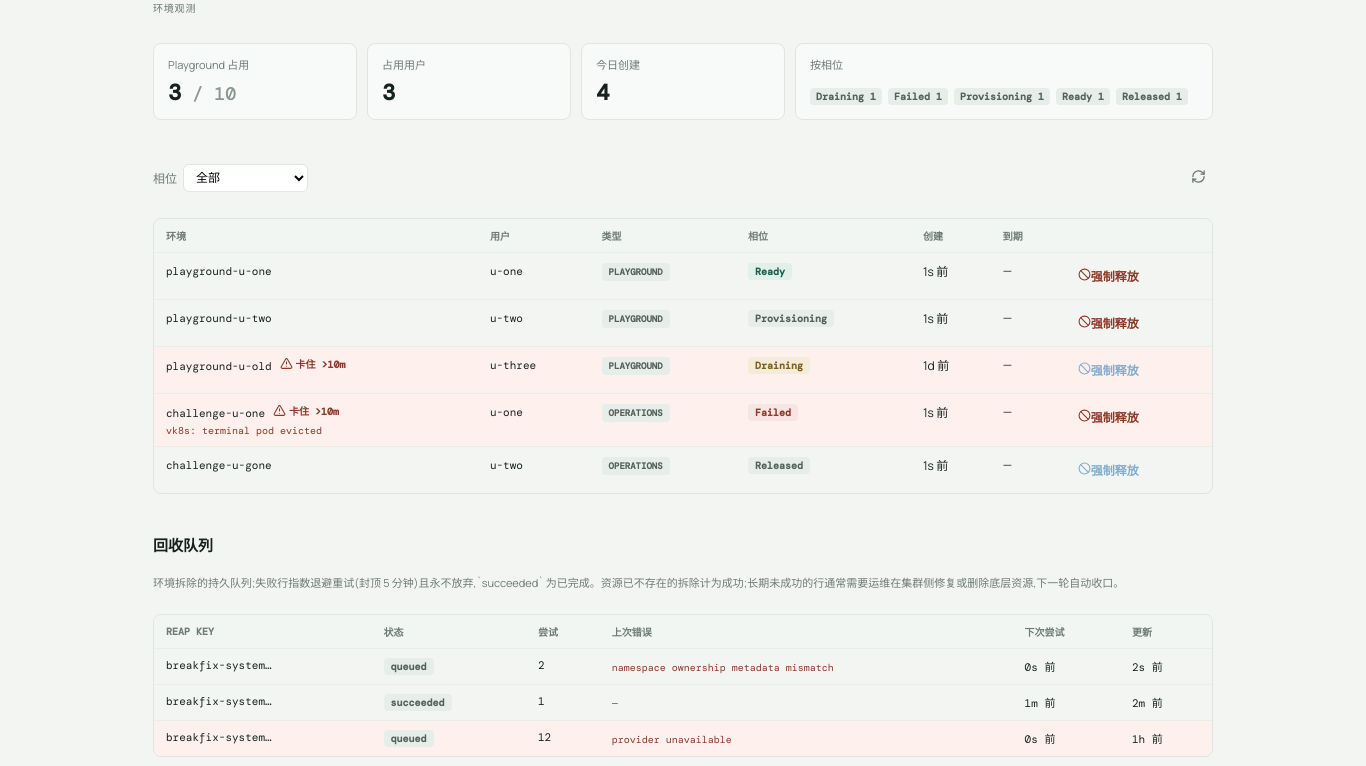
Test: AdminEnvironmentsPage › keeps the error visible when the release is rejected
Click the button with class "admin-release-button" in the row of "playground-u-one" at (1108, 276), box [1073,262,1144,290]
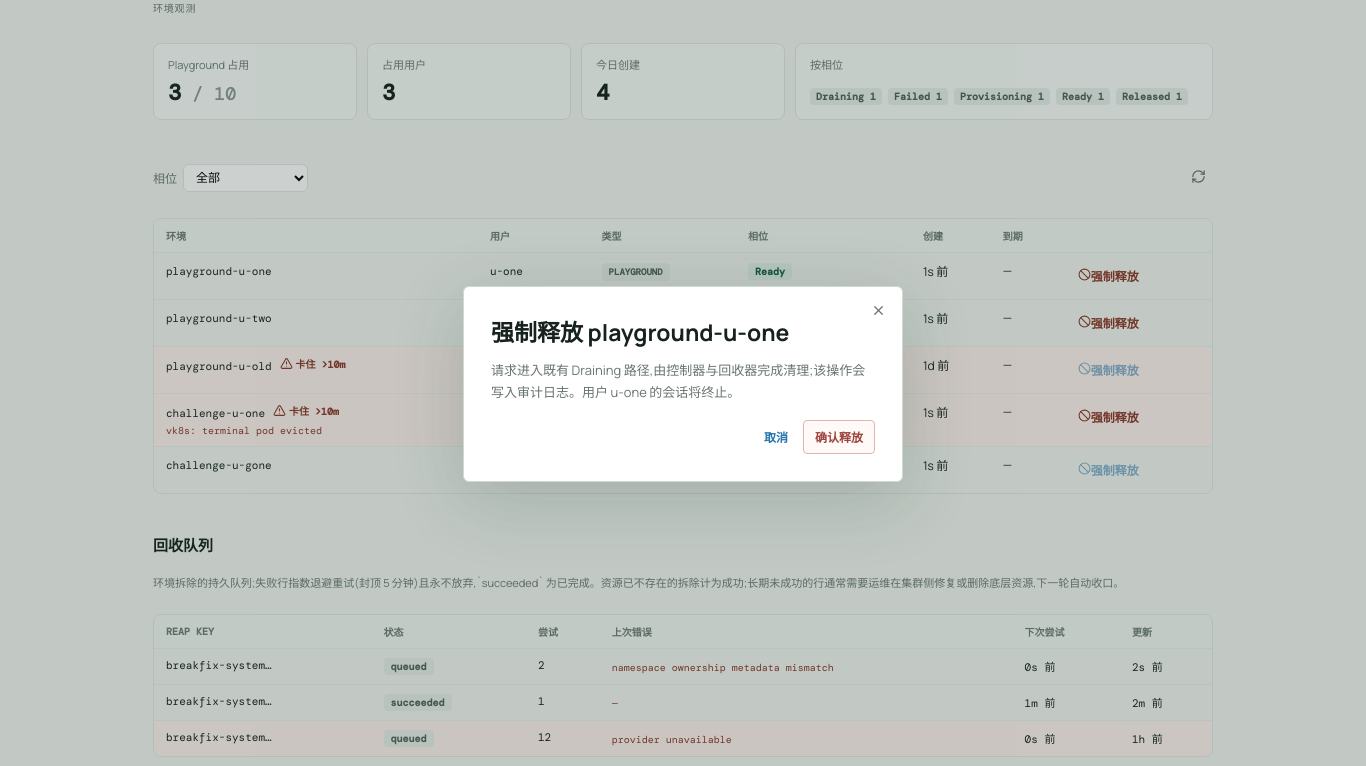
Click the button with class "compact-button" at (839, 437), box [803,420,875,454]
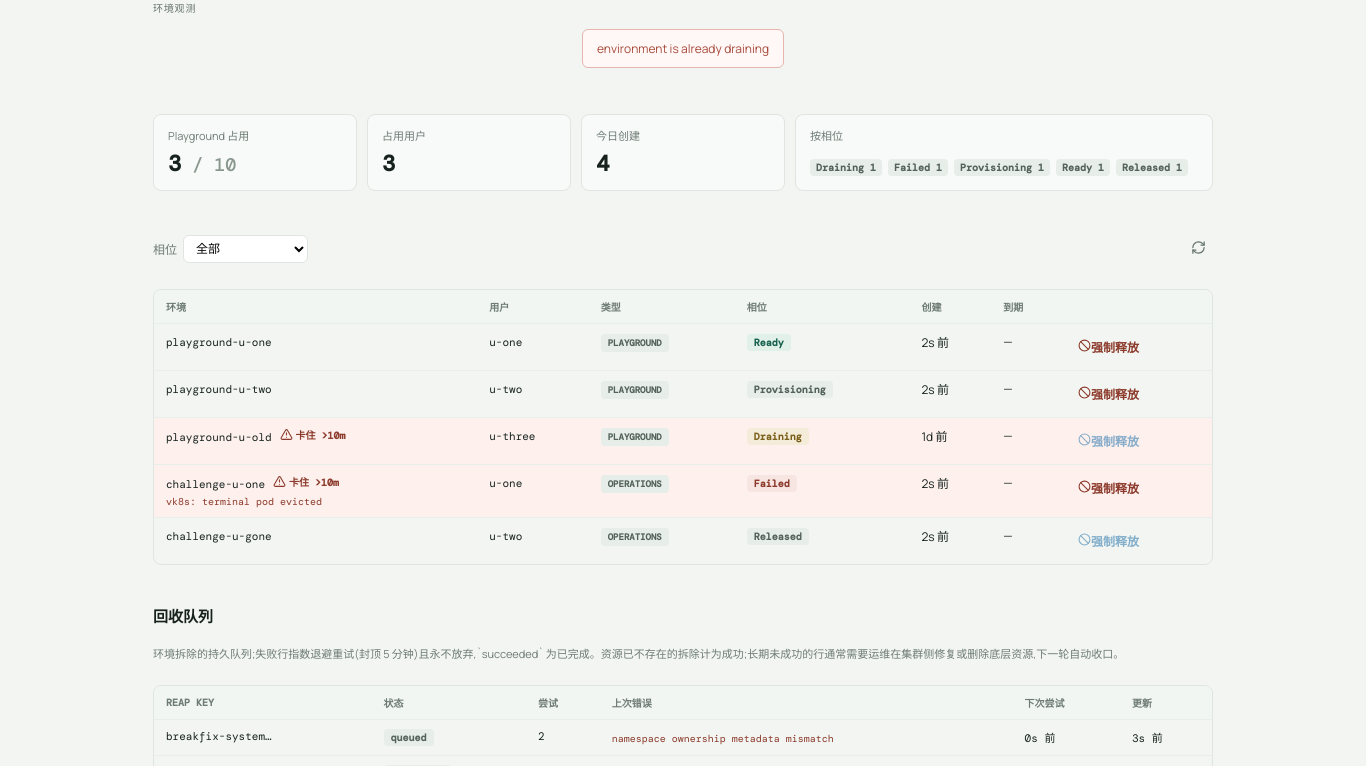
Check: the text with class "admin-error" reads "environment is already draining", box [597,40,769,57]
